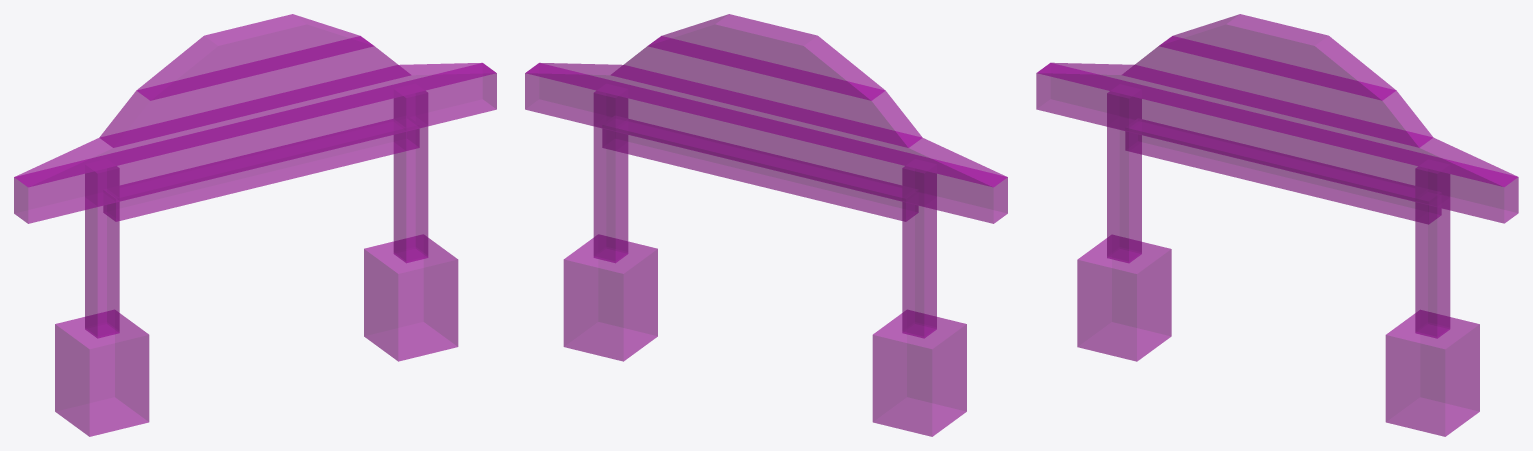
File: SM_Prop_Archway_01_Collision.fbx
The picture shows the model from 3 angles, left to right: view 1: azimuth 30°, elevation 25°; view 2: azimuth 150°, elevation 25°; view 3: azimuth 330°, elevation 25°; orthographic projection.
Parts seen in each view (by area): view 1: SM_Prop_Archway_01_Collision; view 2: SM_Prop_Archway_01_Collision; view 3: SM_Prop_Archway_01_Collision.
Part boxes in pixels (box(x1,y1,x2,y2)): SM_Prop_Archway_01_Collision: box(14, 14, 496, 436); SM_Prop_Archway_01_Collision: box(525, 14, 1007, 436); SM_Prop_Archway_01_Collision: box(1036, 14, 1518, 436).
Bounding box in the file's own units: 694 × 495 × 88.51.
